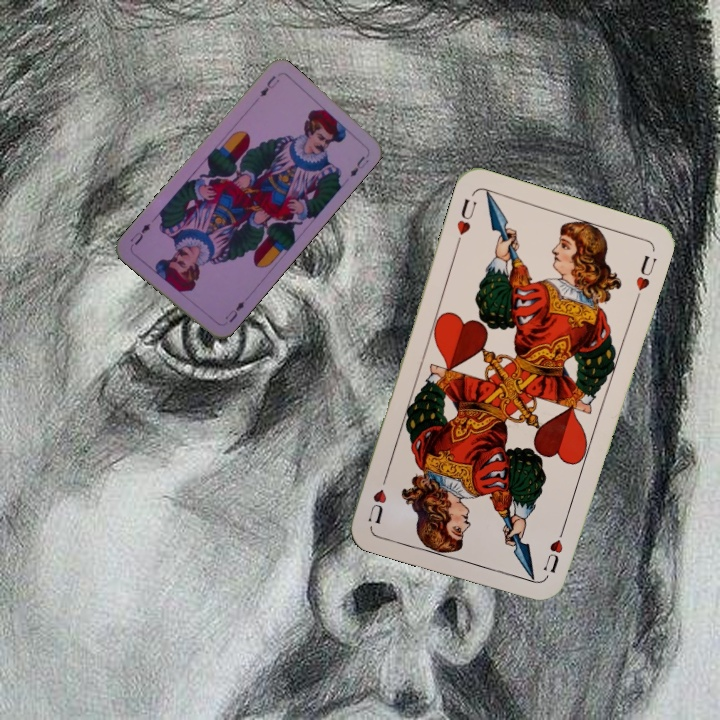EU: (256, 71, 282, 100), (221, 297, 247, 325)
HU: (452, 194, 479, 249), (539, 535, 566, 576)
